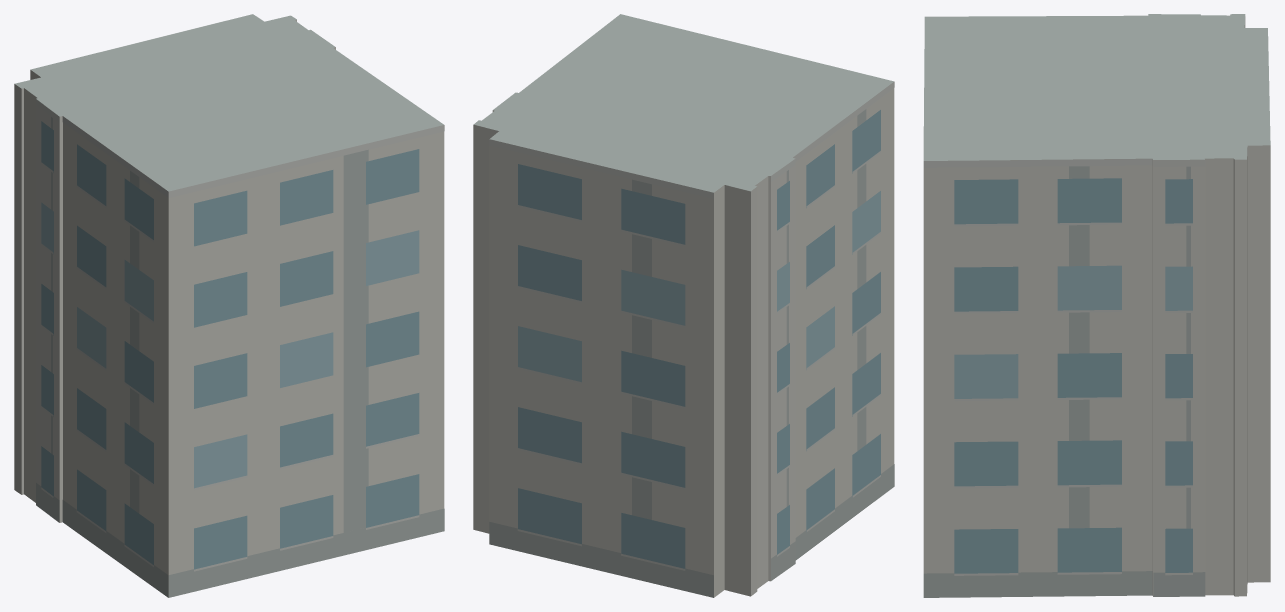
Rendered from survey-upis-32840885.glb.
3 views of the same model, side by side, from view 1: azimuth 30°, elevation 25°; view 2: azimuth 150°, elevation 25°; view 3: azimuth 270°, elevation 25° (orthographic). The views are drawn at different scales.
Visible parts, largest first — view 1: survey-upis-32840885.tmp; view 2: survey-upis-32840885.tmp; view 3: survey-upis-32840885.tmp.
Boxes of the visible parts, bbox=[...] form: survey-upis-32840885.tmp: bbox=[14, 14, 444, 597]; survey-upis-32840885.tmp: bbox=[473, 14, 894, 597]; survey-upis-32840885.tmp: bbox=[923, 14, 1270, 597].
Bounding box in the file's own units: 11.13 × 15.4 × 11.11.
